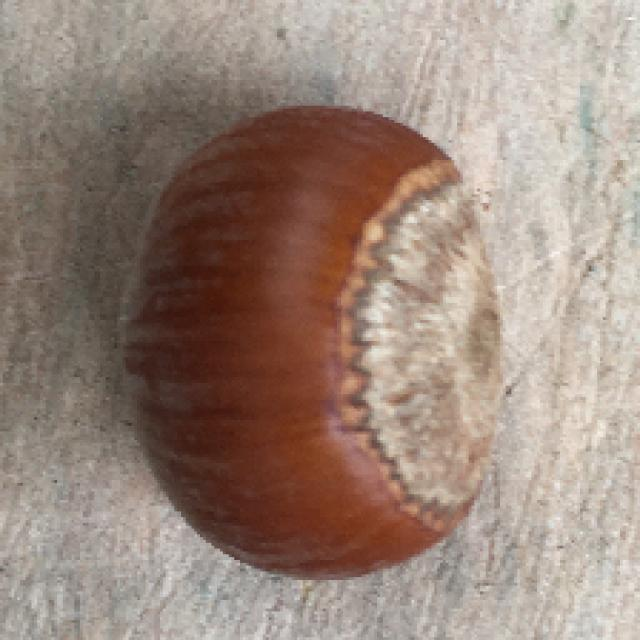QualityHazelnut: (119, 102, 513, 583)
